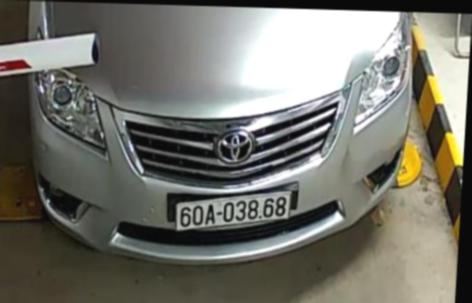License_Plate: (168, 188, 300, 239)
